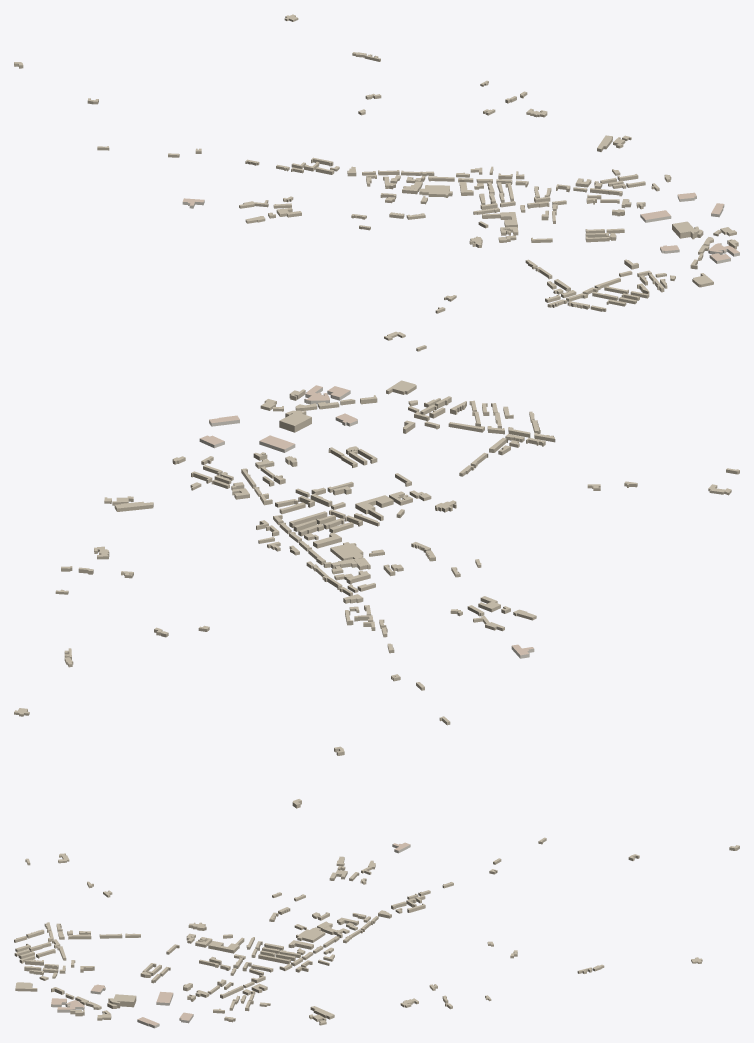
The picture shows the model from 3 angles, top to bottom: view 1: azimuth 30°, elevation 25°; view 2: azimuth 150°, elevation 25°; view 3: azimuth 270°, elevation 25°; orthographic projection. The views are drawn at different scales.
Size of the model in its own units: 1468 by 30.78 by 2418.
